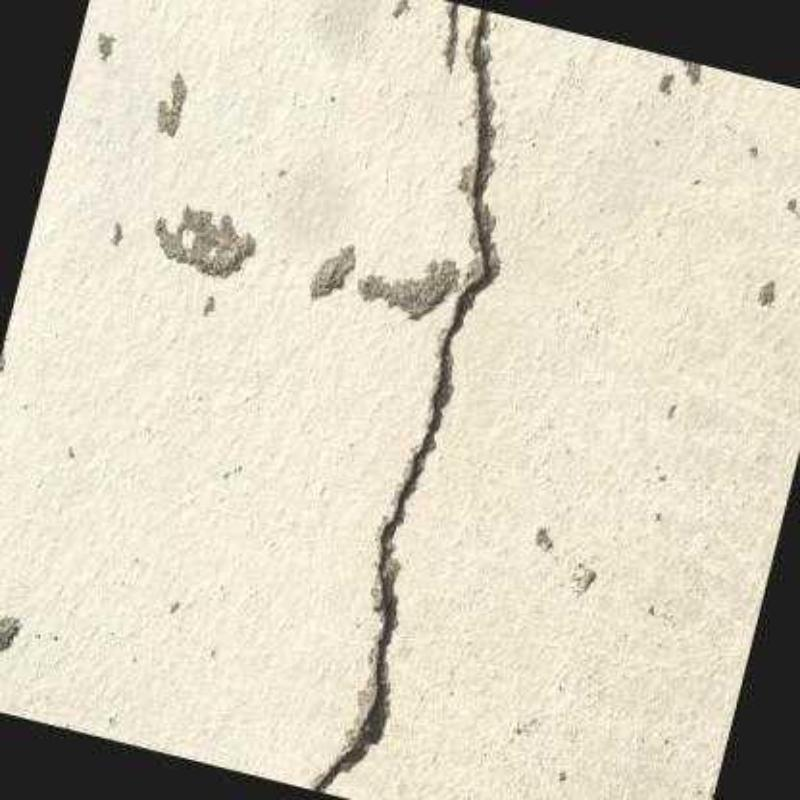crack: (350, 7, 488, 746), (310, 738, 368, 794), (445, 0, 457, 67)
